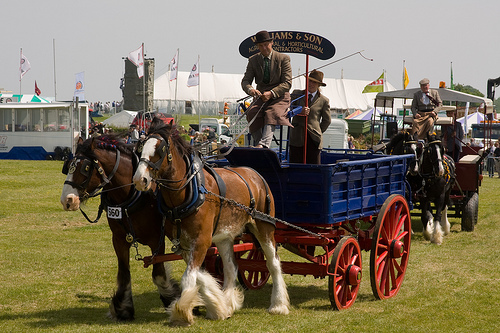horse: (134, 114, 292, 323), (61, 135, 191, 321)
